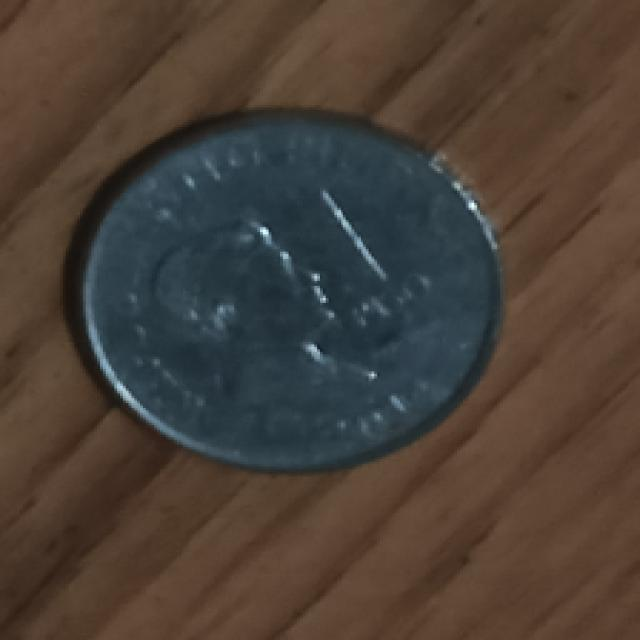1_peso: (80, 112, 500, 469)
